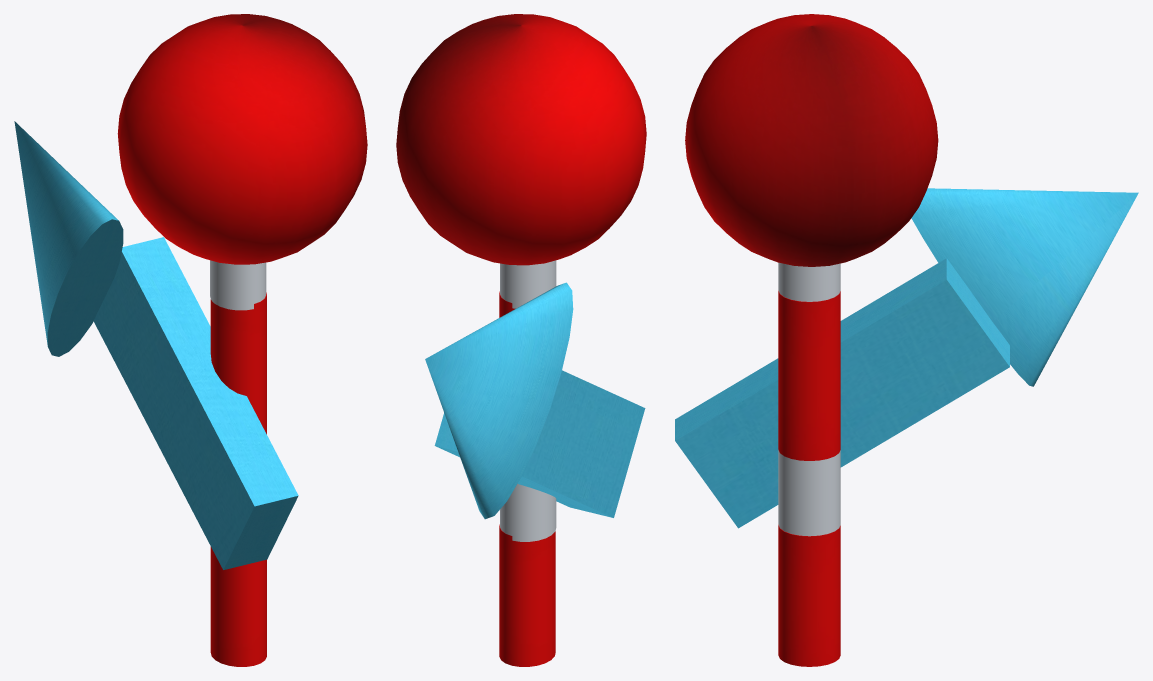
The model's file is senal.obj.
3 renders of one model, left to right at view 1: azimuth 30°, elevation 25°; view 2: azimuth 150°, elevation 25°; view 3: azimuth 270°, elevation 25°, orthographic.
Size of the model in its own units: 3.13 by 8.62 by 5.73.
5 materials, 5 textured.
